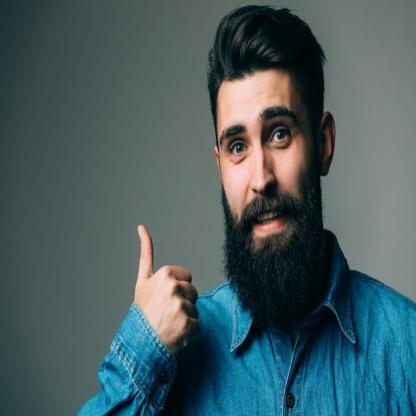thumb_up: (134, 219, 200, 352)
